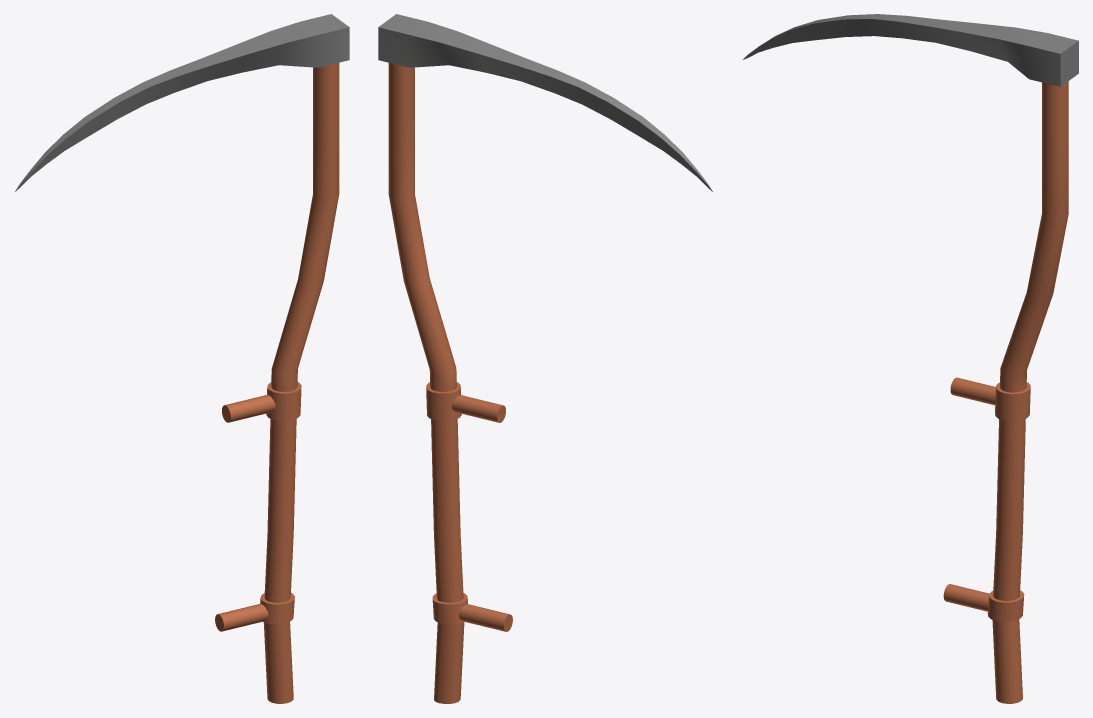
File: sikkel.fbx
3 renders of one model, left to right at view 1: azimuth 30°, elevation 25°; view 2: azimuth 150°, elevation 25°; view 3: azimuth 330°, elevation 25°, orthographic.
Visible parts, largest first — view 1: Cylinder; view 2: Cylinder; view 3: Cylinder.
Boxes of the visible parts, x1=… form: Cylinder: x1=15, y1=14, x2=349, y2=703; Cylinder: x1=378, y1=14, x2=712, y2=703; Cylinder: x1=743, y1=14, x2=1078, y2=703.
Bounding box in the file's own units: 1.04 × 2.02 × 0.1.
